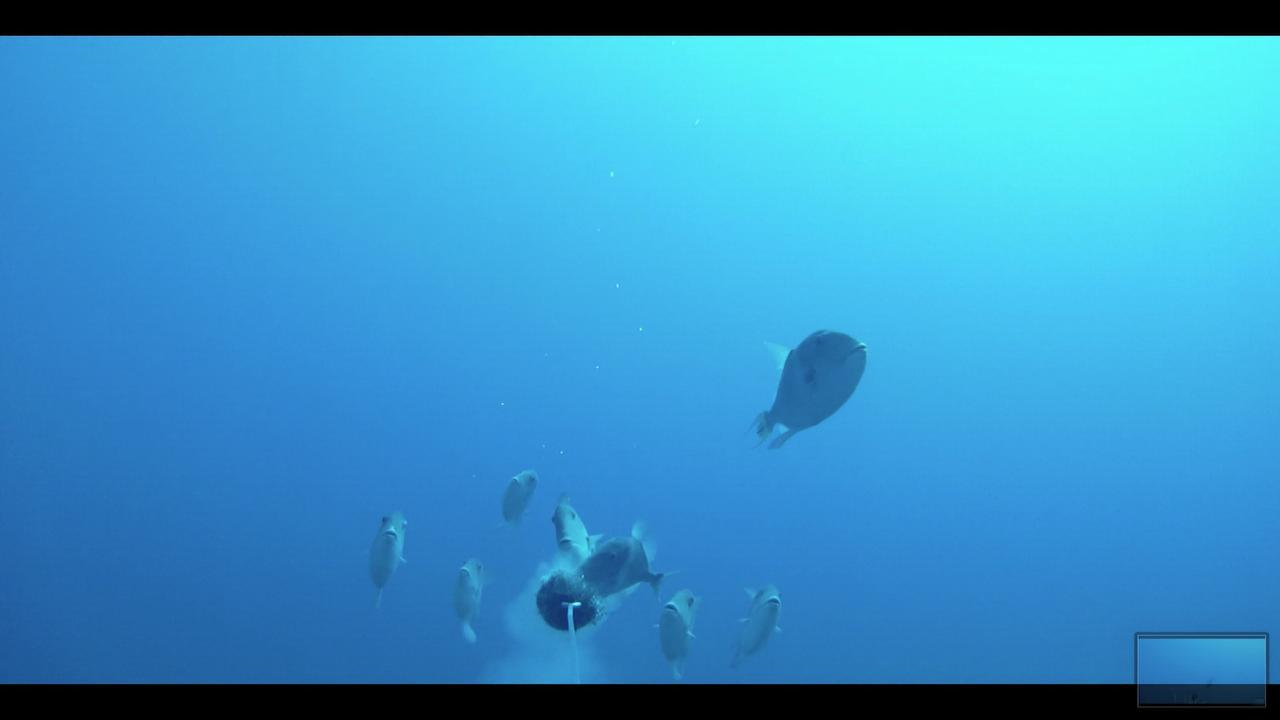balistes: (752, 323, 869, 450), (355, 503, 416, 611), (650, 578, 714, 678), (725, 571, 791, 663), (533, 486, 601, 571), (440, 554, 496, 648), (492, 464, 543, 528)
